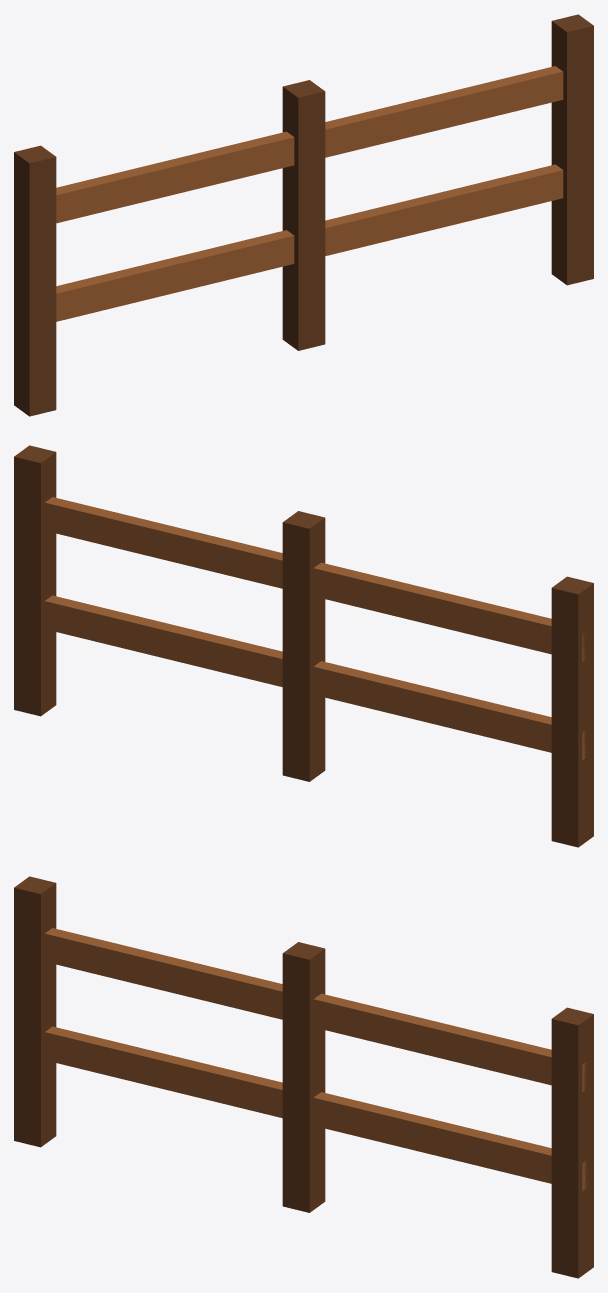
The model's file is fence.glb.
3 views of the same model, one above another, from view 1: azimuth 30°, elevation 25°; view 2: azimuth 150°, elevation 25°; view 3: azimuth 330°, elevation 25° (orthographic).
Parts seen in each view (by area): view 1: Fence; view 2: Fence; view 3: Fence.
Boxes of the visible parts, x1=… form: Fence: x1=14, y1=14, x2=593, y2=416; Fence: x1=14, y1=445, x2=593, y2=847; Fence: x1=14, y1=876, x2=593, y2=1278.
Size of the model in its own units: 2.1 by 0.9 by 0.1.
